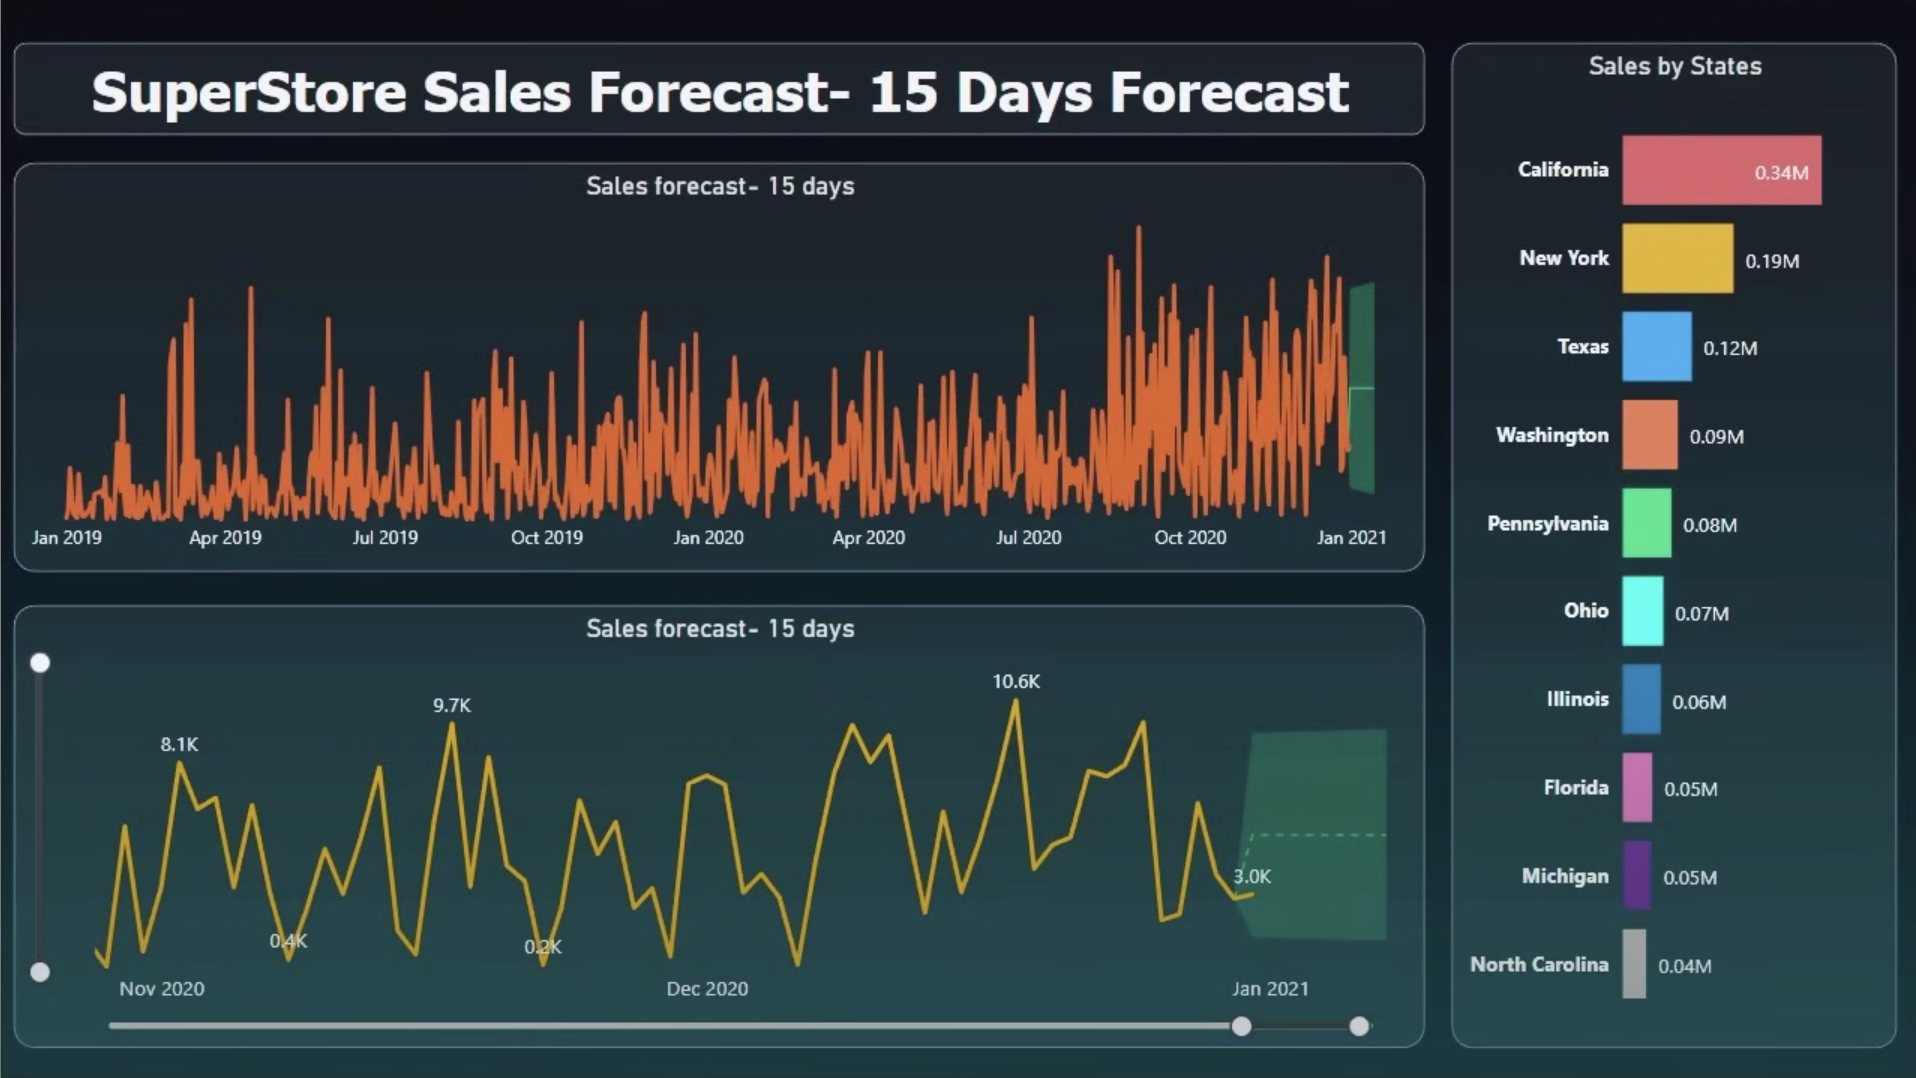

Layout of this report page (visuals, bound fields, positions):
{"tool":"powerbi","page":{"name":"Page 2","canvas":[1280,720],"ordinal":1},"visuals":[{"type":"lineChart","title":"Sales forecast - 15 days","fields":{"Y":["Sum(SuperStore_Sales_Dataset.Sales)"],"Category":["SuperStore_Sales_Dataset.Order Date"]},"box":[16.2,110,895,278.8],"z":0},{"type":"clusteredBarChart","title":"Sales by Category","fields":{"Category":["SuperStore_Sales_Dataset.State"],"Y":["Sum(SuperStore_Sales_Dataset.Sales)"]},"box":[931.2,37.5,331.2,662.5],"z":2},{"type":"lineChart","title":"Sales forecast - 15 days","fields":{"Y":["Sum(SuperStore_Sales_Dataset.Sales)"],"Category":["SuperStore_Sales_Dataset.Order Date"]},"box":[16.2,402.5,895,278.8],"z":3},{"type":"textbox","box":[11.2,15,882.5,75],"z":4}]}

Visuals, with their boxes in screenshot pixels (x1, y1, x2, y2), scaled from the page's 1280x720 canvas onto the 1916x1078 screenshot:
"Sales forecast - 15 days" lineChart: detection(24, 165, 1364, 582)
"Sales by Category" clusteredBarChart: detection(1394, 56, 1890, 1048)
"Sales forecast - 15 days" lineChart: detection(24, 603, 1364, 1020)
textbox: detection(17, 22, 1338, 135)
